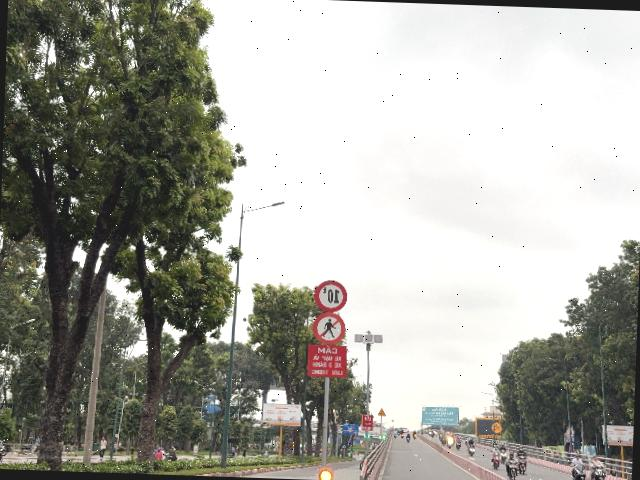cam-nguoi-di-bo: (312, 312, 346, 346)
han-che-trong-luong-xe: (314, 279, 348, 313)
